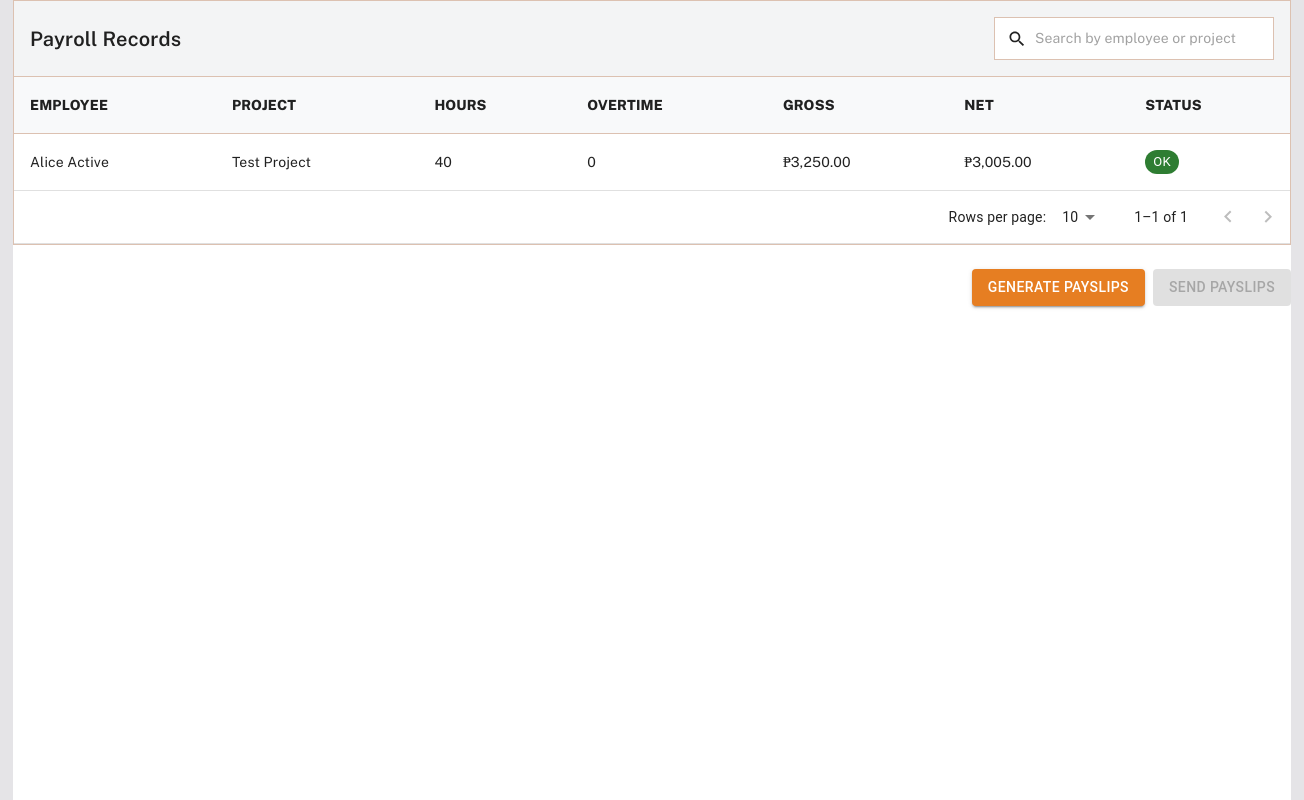
PayrollPeriodPage MainContent › shows an error when generating fails
The width and height of the screenshot is (1304, 800).
Click the button "Generate Payslips" at (1058,287), box x1=972 y1=269 x2=1145 y2=306
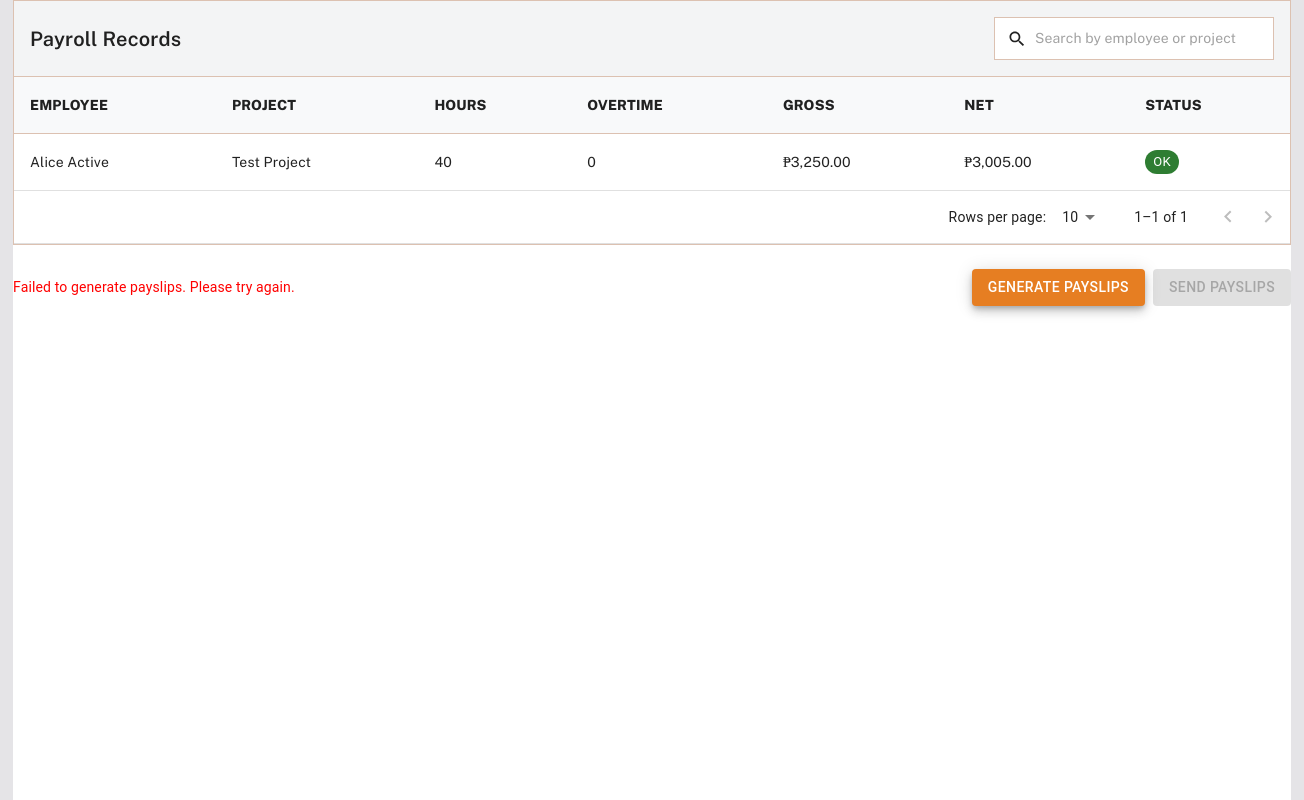
Result: the text "Failed to generate payslips. Please try again." is shown at x1=13 y1=277 x2=295 y2=298
